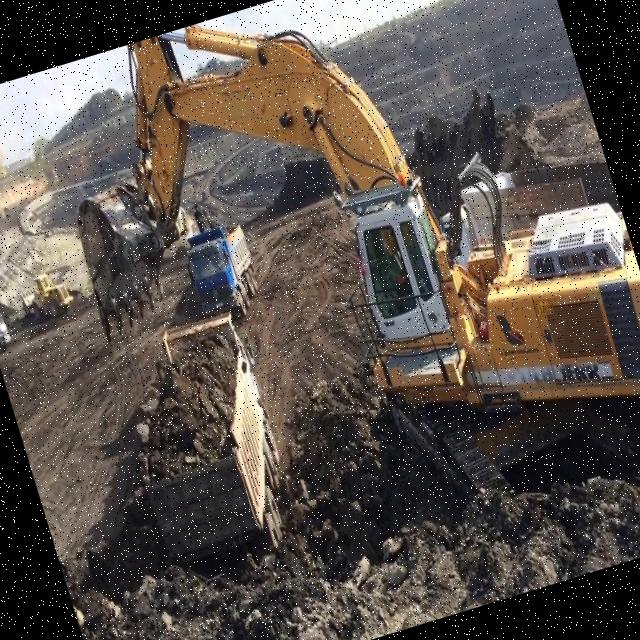Dump Truck: (105, 318, 302, 578), (179, 222, 269, 320)
Excavator: (22, 0, 640, 593)
Loader: (15, 267, 75, 326)
